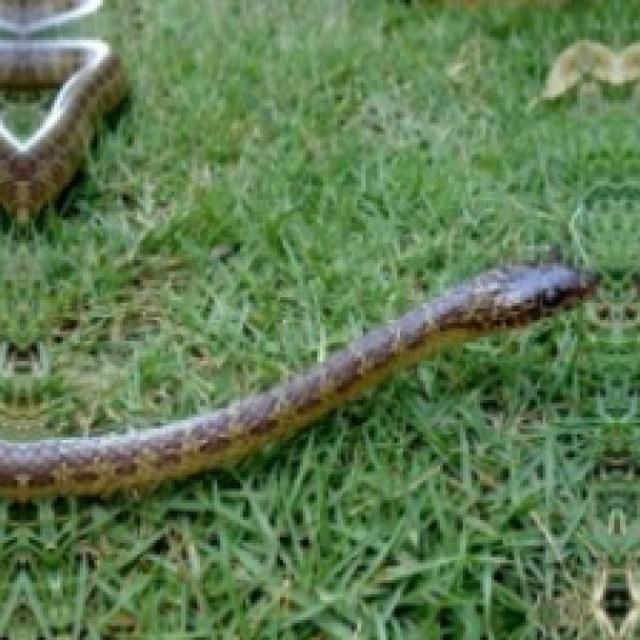mullers wolf snake: (0, 3, 560, 431), (0, 263, 591, 497), (0, 266, 580, 494), (0, 40, 123, 217)
